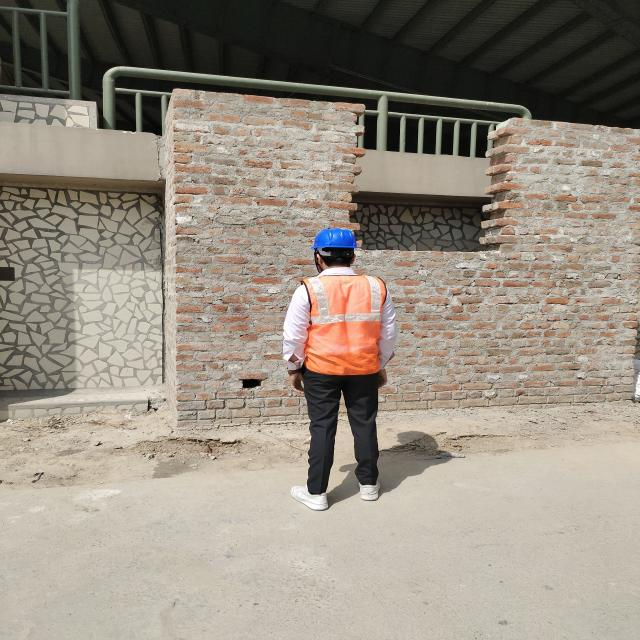safe: (284, 228, 394, 511)
